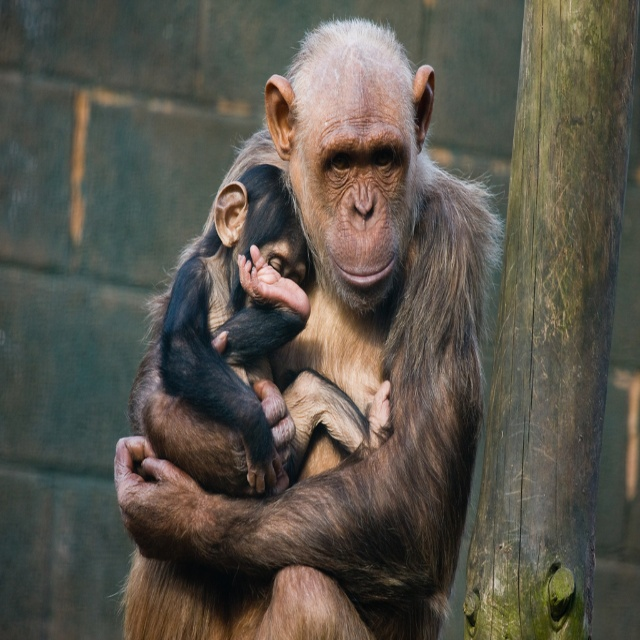Monkey: (109, 16, 502, 639)
